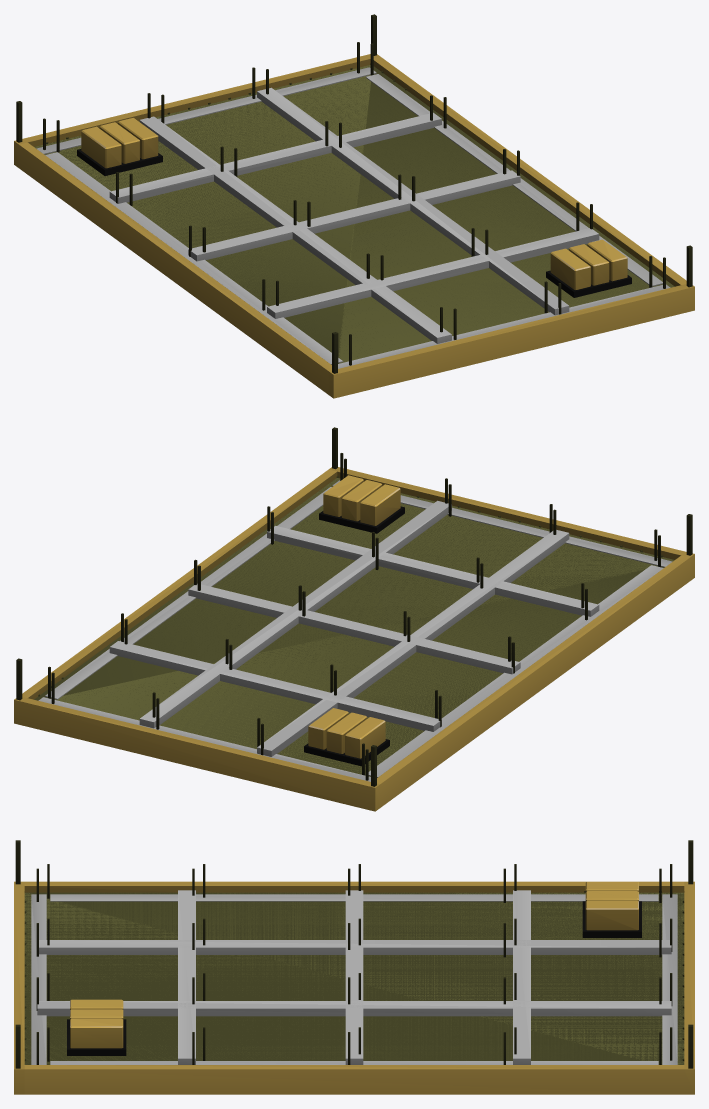
File: meridian_barracks_foundation.glb
The picture shows the model from 3 angles, top to bottom: view 1: azimuth 30°, elevation 25°; view 2: azimuth 150°, elevation 25°; view 3: azimuth 270°, elevation 25°; orthographic projection. The views are drawn at different scales.
Visible parts, largest first — view 1: body (×3); view 2: body (×3); view 3: body (×3).
Boxes of the visible parts, bbox=[...] form: body (×3): bbox=[14, 14, 694, 398]; body (×3): bbox=[14, 427, 694, 811]; body (×3): bbox=[14, 840, 694, 1094].
Bounding box in the file's own units: 7.48 × 1.25 × 11.46.
